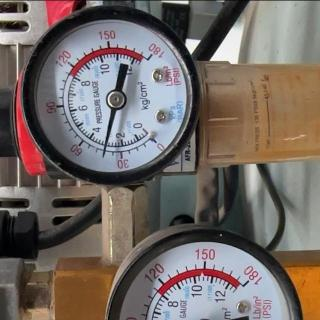gauge: (14, 0, 210, 192), (104, 225, 318, 319), (134, 121, 170, 152), (105, 88, 127, 110), (236, 272, 258, 292), (140, 48, 160, 66), (98, 150, 108, 160)
